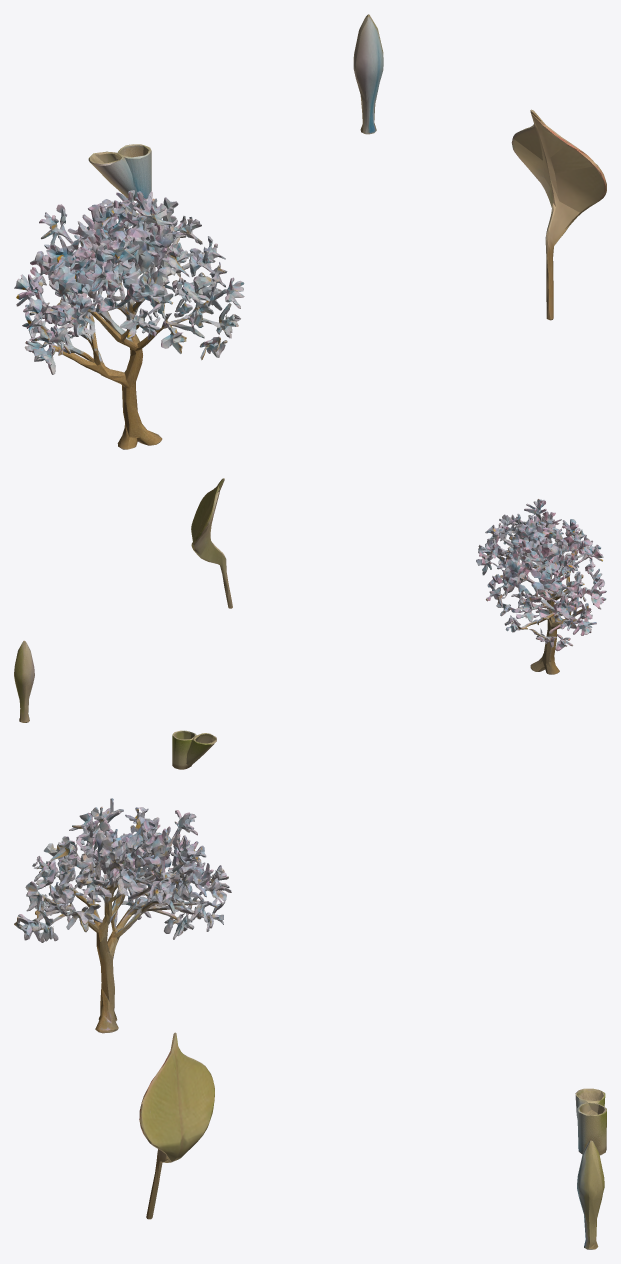
The model's file is sunny-meadow-v1.glb.
The picture shows the model from 3 angles, top to bottom: view 1: azimuth 30°, elevation 25°; view 2: azimuth 150°, elevation 25°; view 3: azimuth 270°, elevation 25°; orthographic projection. The views are drawn at different scales.
Size of the model in its own units: 1.01 by 0.4134 by 0.9375.
Materials: 1 (1 with a texture image).
